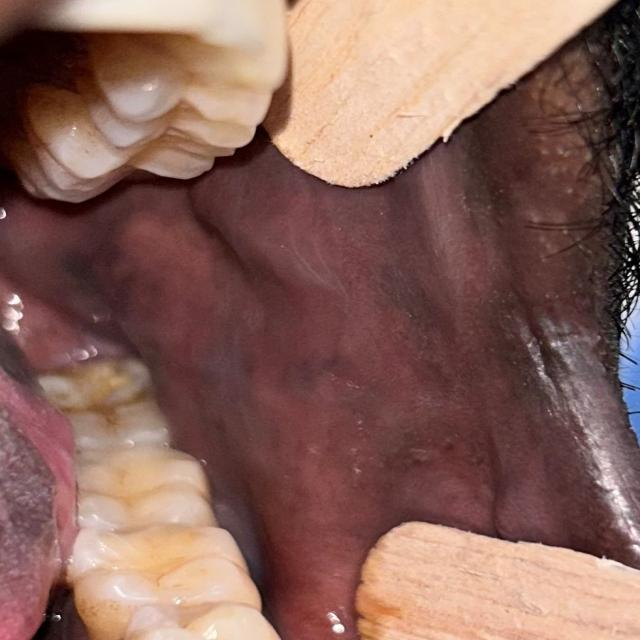leukoplakia-like-detection: (85, 162, 498, 484)
processing_area: (0, 97, 613, 636)
